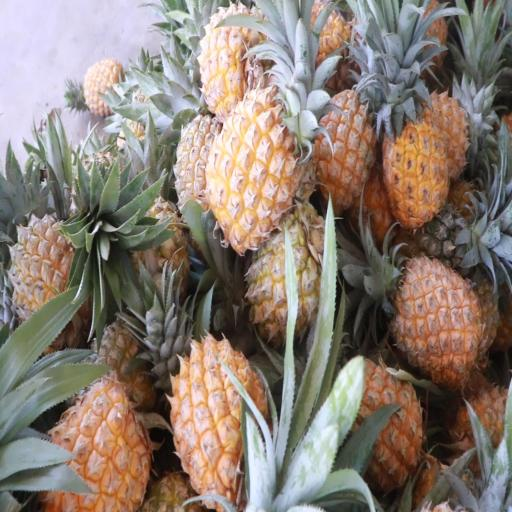------------------------------: (249, 216, 332, 347)
Pineapple - v8 v1: (172, 340, 266, 501), (34, 383, 149, 512), (210, 94, 296, 242), (340, 363, 422, 488), (392, 261, 481, 376), (316, 86, 381, 208), (384, 111, 450, 226), (202, 7, 268, 112)
